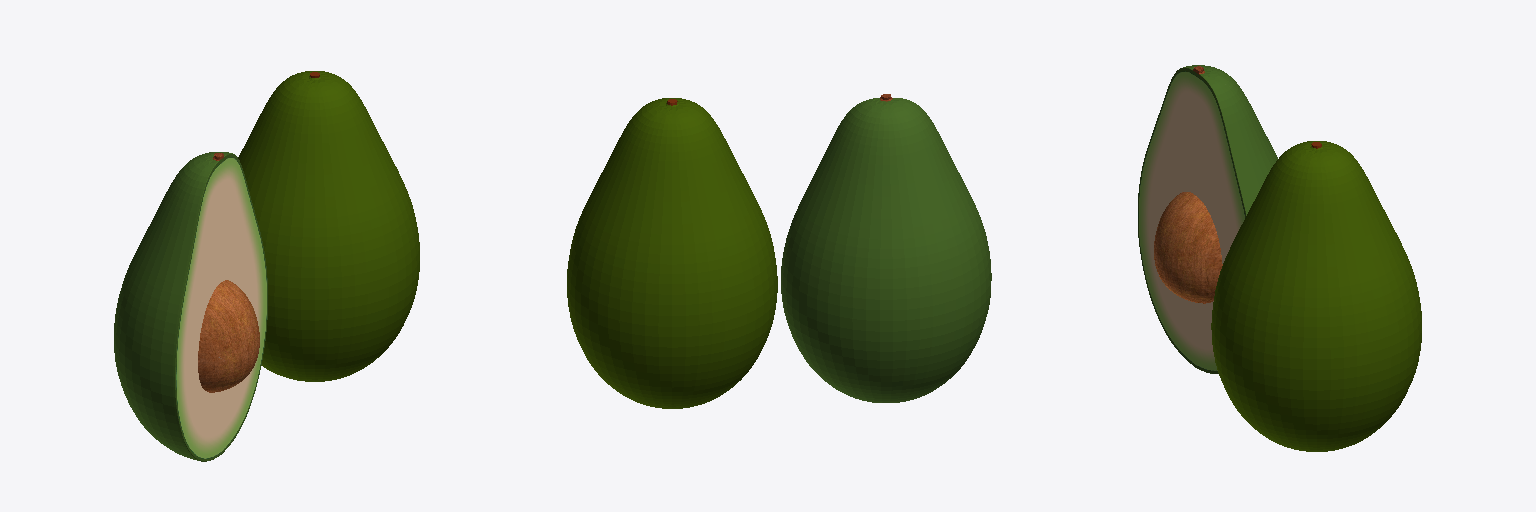
3 views of the same model, side by side, from view 1: azimuth 30°, elevation 25°; view 2: azimuth 150°, elevation 25°; view 3: azimuth 270°, elevation 25° (orthographic).
Visible parts, largest first — view 1: avocado_full_Sphere.001, avocado_half_Sphere.002; view 2: avocado_full_Sphere.001, avocado_half_Sphere.002; view 3: avocado_full_Sphere.001, avocado_half_Sphere.002.
Boxes of the visible parts, box(x1,y1,x2,y2) form: avocado_full_Sphere.001: box(238, 71, 419, 381); avocado_half_Sphere.002: box(114, 152, 267, 461); avocado_full_Sphere.001: box(567, 98, 777, 408); avocado_half_Sphere.002: box(781, 94, 991, 402); avocado_full_Sphere.001: box(1211, 141, 1421, 451); avocado_half_Sphere.002: box(1138, 65, 1277, 373).
Bounding box in the file's own units: 3.98 × 3.38 × 2.91.
Materials: 2 (2 with a texture image).